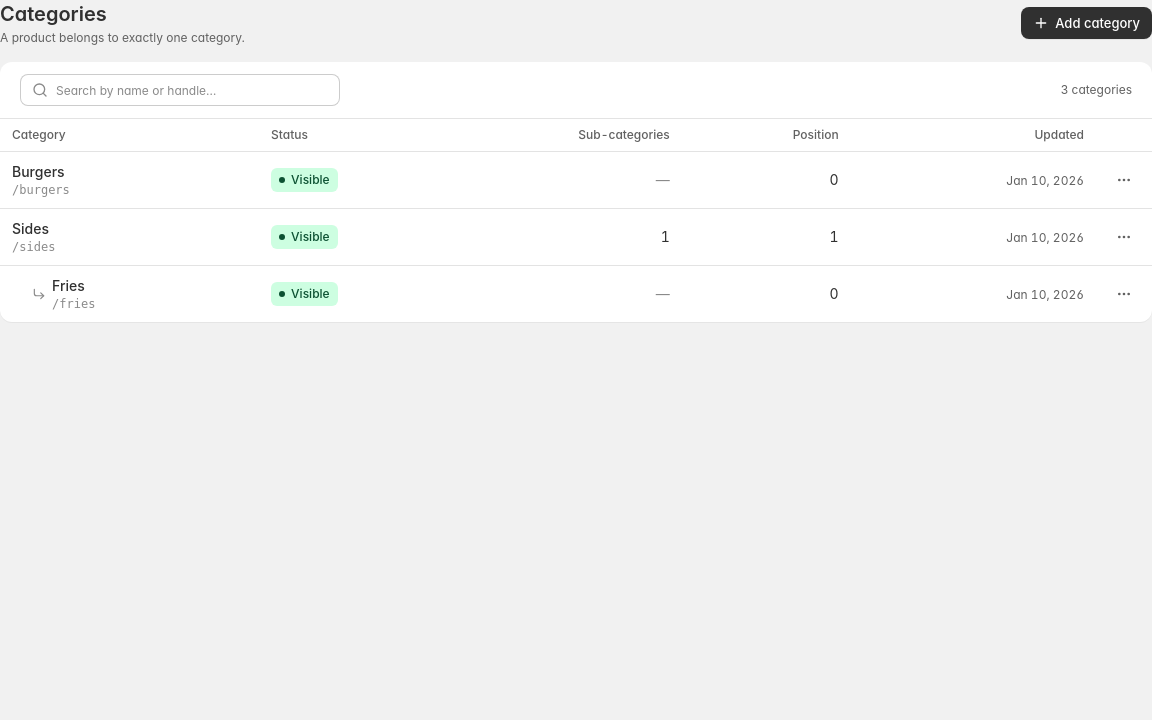
Test: category form › does not send a PATCH when nothing changed
The width and height of the screenshot is (1152, 720).
Click the button named "Actions for Burgers".
click(1124, 180)  # box 1108,164 -> 1140,196
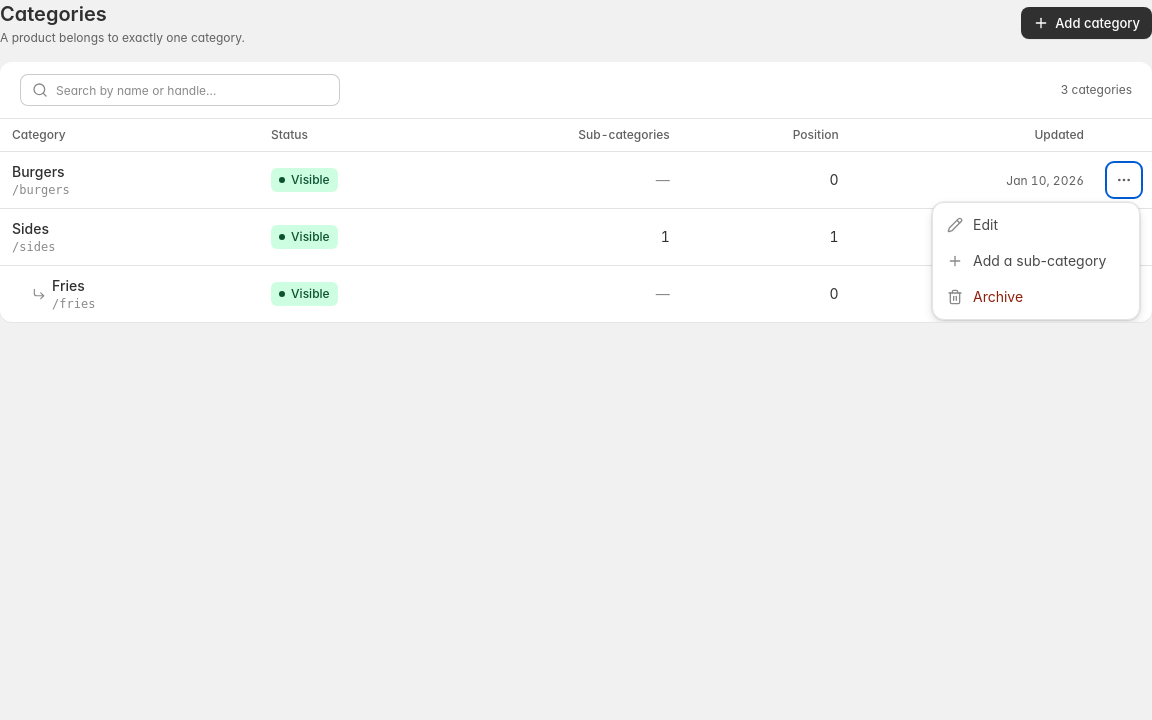
Click the menu item "Edit".
click(1036, 225)  # box 937,207 -> 1135,243
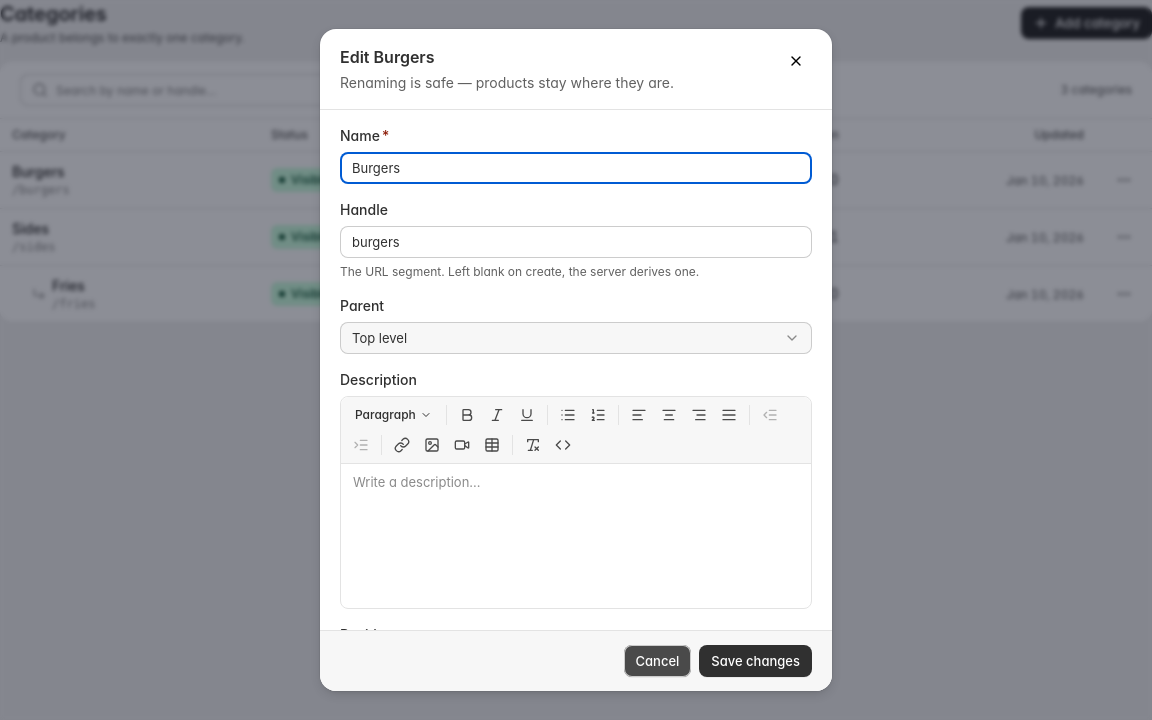
Click the button "Save changes".
click(756, 661)  # box 699,645 -> 812,677
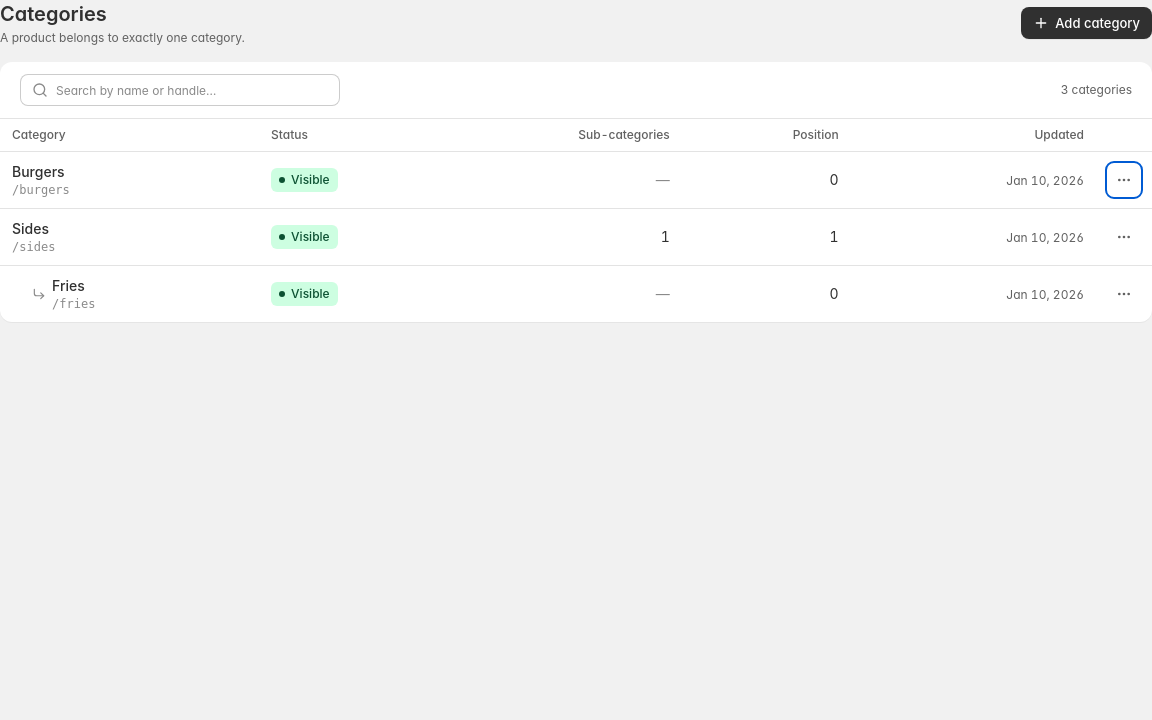
Expected: the dialog is gone
